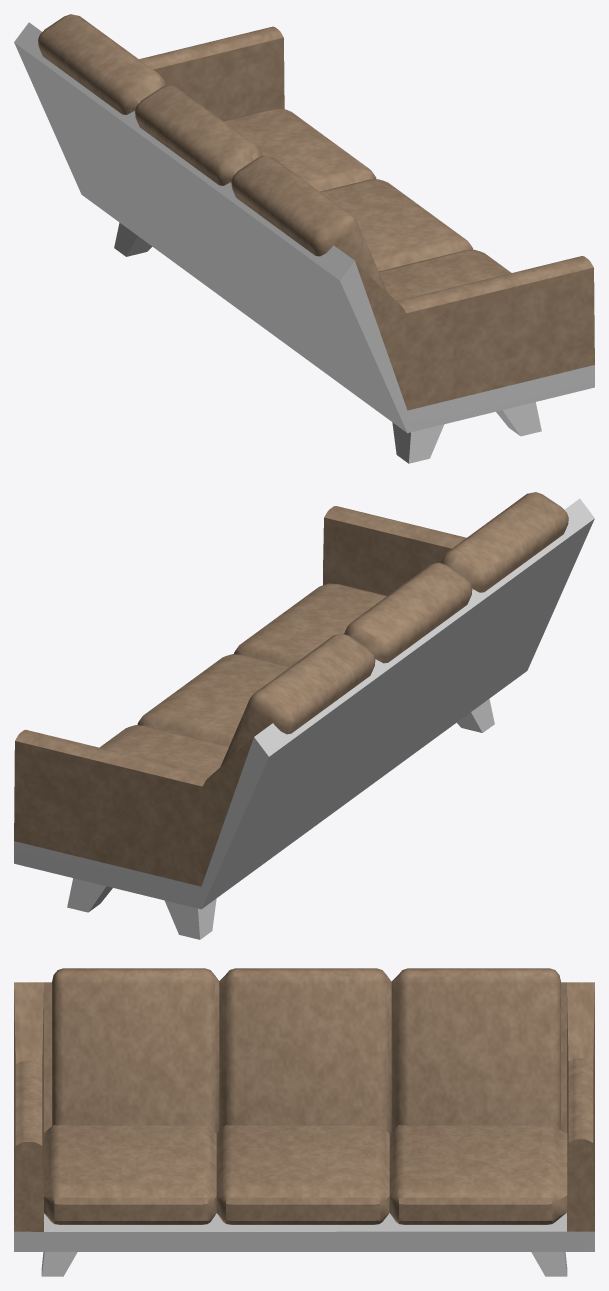
Rendered from couch.fbx.
3 views of the same model, one above another, from view 1: azimuth 30°, elevation 25°; view 2: azimuth 150°, elevation 25°; view 3: azimuth 270°, elevation 25° (orthographic). The views are drawn at different scales.
Parts seen in each view (by area): view 1: Cube.006; view 2: Cube.006; view 3: Cube.006.
Boxes of the visible parts, bbox=[...] form: Cube.006: bbox=[14, 14, 594, 463]; Cube.006: bbox=[14, 492, 594, 939]; Cube.006: bbox=[14, 968, 594, 1276].
Bounding box in the file's own units: 531 × 502 × 1174.
